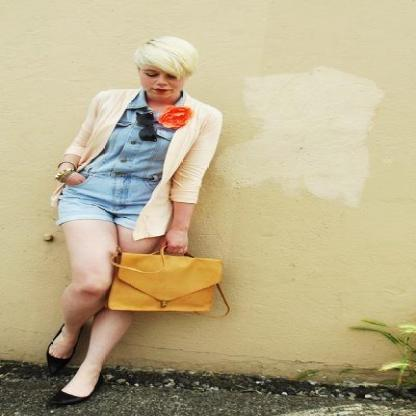bag: (108, 250, 222, 312)
jacket: (44, 89, 221, 214)
shirt: (59, 89, 184, 216)
shoe: (47, 384, 86, 407)
shorts: (56, 192, 169, 240)
